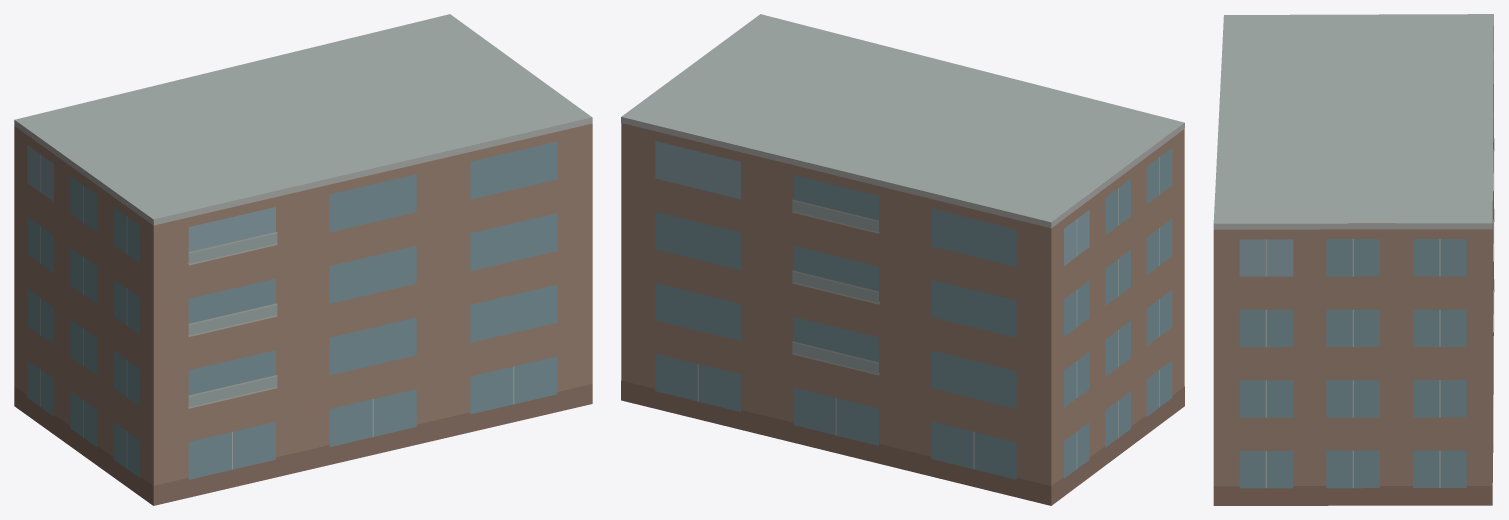
Rendered from survey-upis-33019784.glb.
3 renders of one model, left to right at view 1: azimuth 30°, elevation 25°; view 2: azimuth 150°, elevation 25°; view 3: azimuth 270°, elevation 25°, orthographic.
Parts seen in each view (by area): view 1: survey-upis-33019784.tmp; view 2: survey-upis-33019784.tmp; view 3: survey-upis-33019784.tmp.
Boxes of the visible parts, left/top/right/bottom form: survey-upis-33019784.tmp: left=14, top=14, right=592, bottom=505; survey-upis-33019784.tmp: left=621, top=14, right=1184, bottom=505; survey-upis-33019784.tmp: left=1213, top=14, right=1494, bottom=505.
Bounding box in the file's own units: 18.33 × 11.5 × 10.38.
